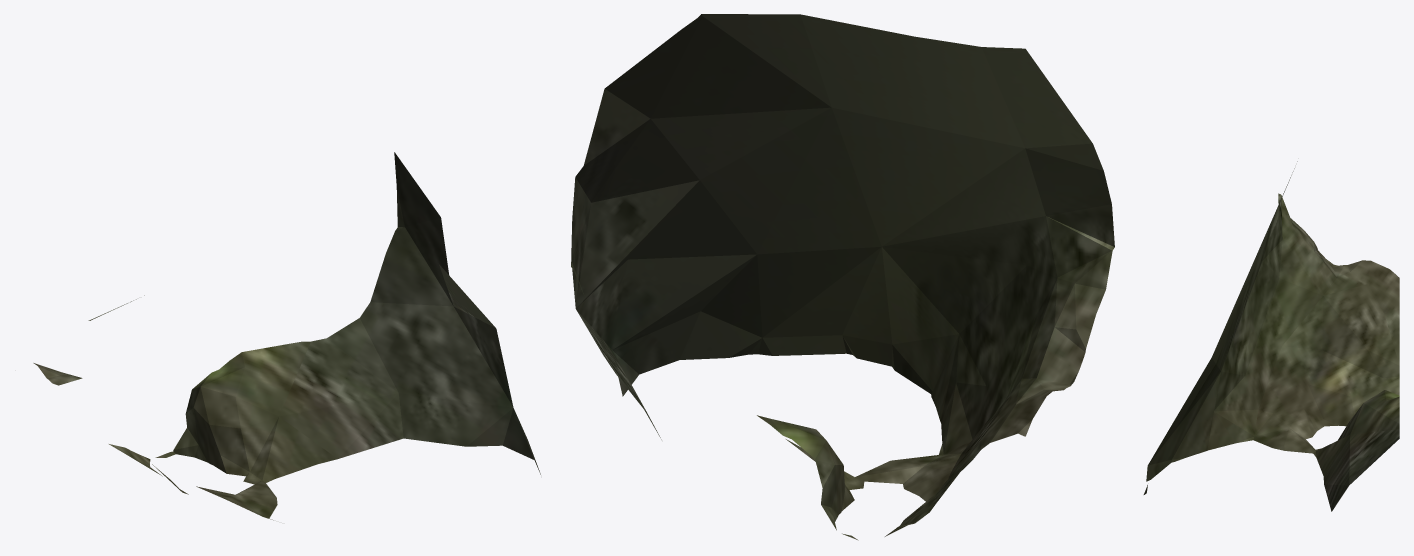
The picture shows the model from 3 angles, left to right: view 1: azimuth 30°, elevation 25°; view 2: azimuth 150°, elevation 25°; view 3: azimuth 270°, elevation 25°; orthographic projection. The views are drawn at different scales.
Size of the model in its own units: 1.77 by 1.79 by 1.15.
2 materials, 2 textured.
